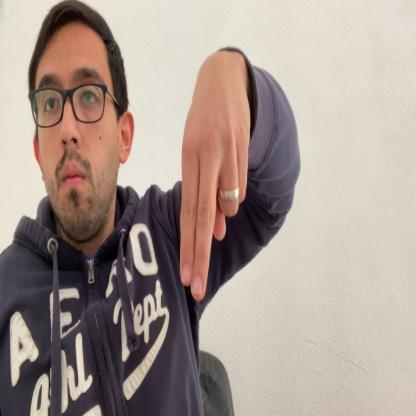N: (179, 57, 250, 301)
